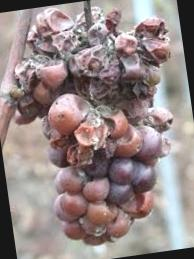Grape Rotten: (0, 0, 194, 255)
